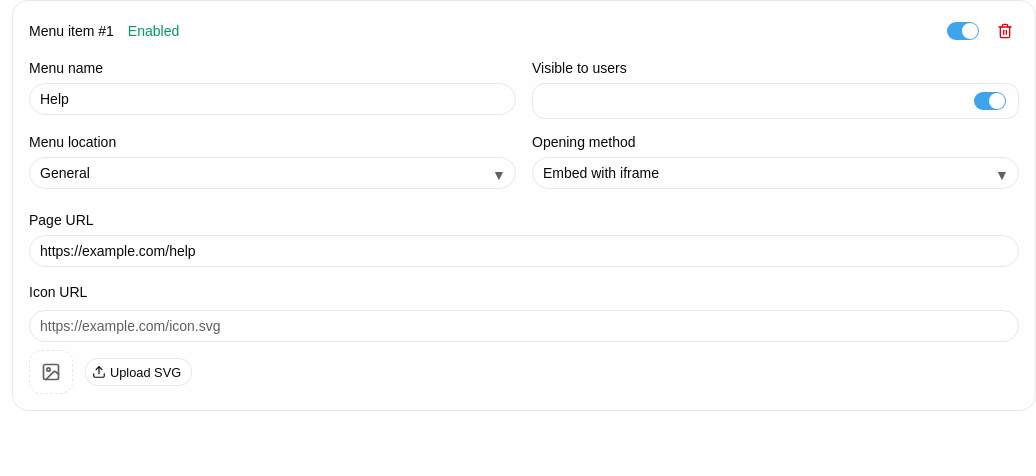
it: custom menu page icons › invalid URL shows an error and is not used as an image source
Type "javascript:alert(1)" into the field labelled "Icon URL".
click(524, 326); type("javascript:alert(1)")  # box [29,310,1019,342]
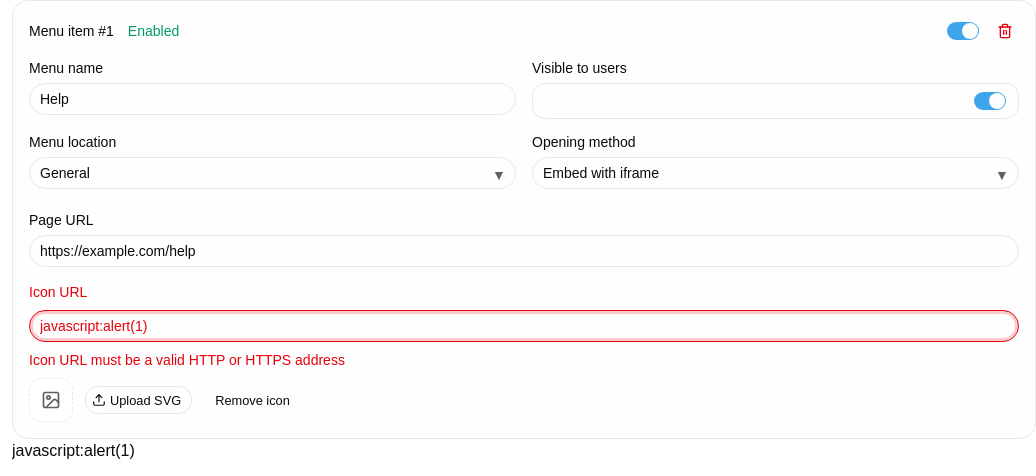
Check: the text "Icon URL must be a valid HTTP or HTTPS address" is shown, box [29,352,345,368]
